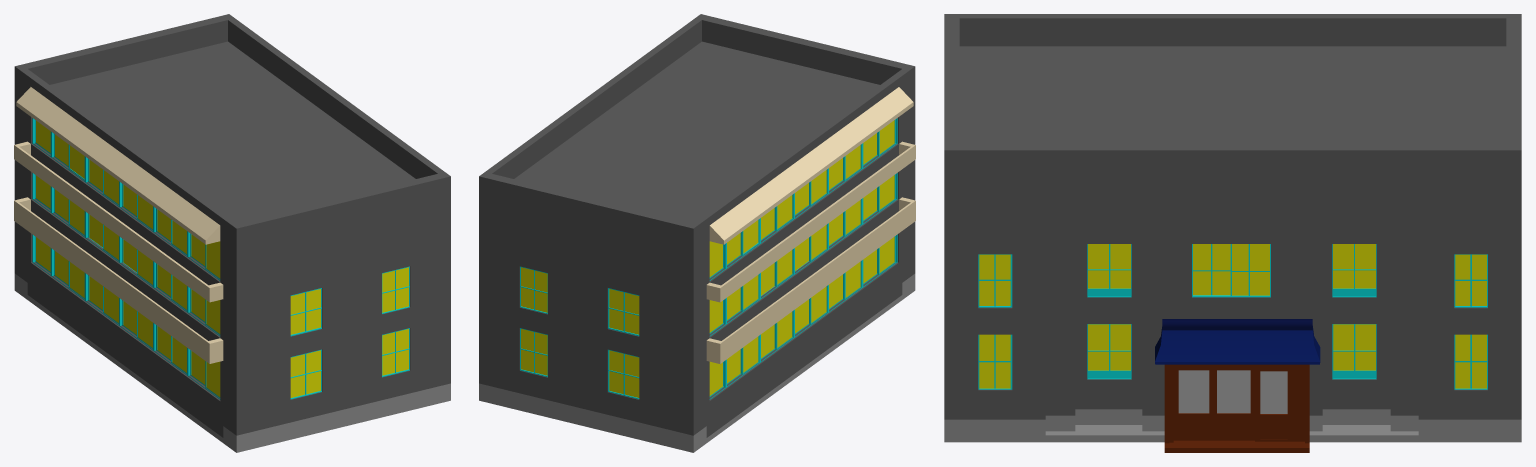
File: house12_middle.fbx
The picture shows the model from 3 angles, left to right: view 1: azimuth 30°, elevation 25°; view 2: azimuth 150°, elevation 25°; view 3: azimuth 270°, elevation 25°; orthographic projection. The views are drawn at different scales.
Parts seen in each view (by area): view 1: pCube188; view 2: pCube188; view 3: pCube188.
Part boxes in pixels (<box>): pCube188: <box>14,14,450,452</box>; pCube188: <box>479,14,915,452</box>; pCube188: <box>944,14,1521,452</box>.
Bounding box in the file's own units: 12.4 × 10.77 × 19.3.
